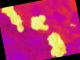Foc: (0, 3, 29, 37), (40, 25, 68, 58), (26, 9, 49, 34), (74, 40, 79, 53)
